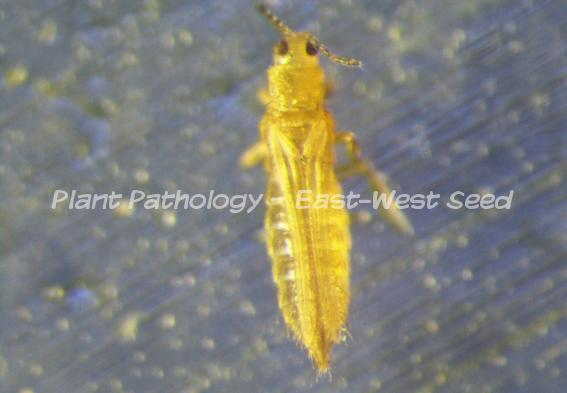Thrips: (241, 1, 377, 380)
